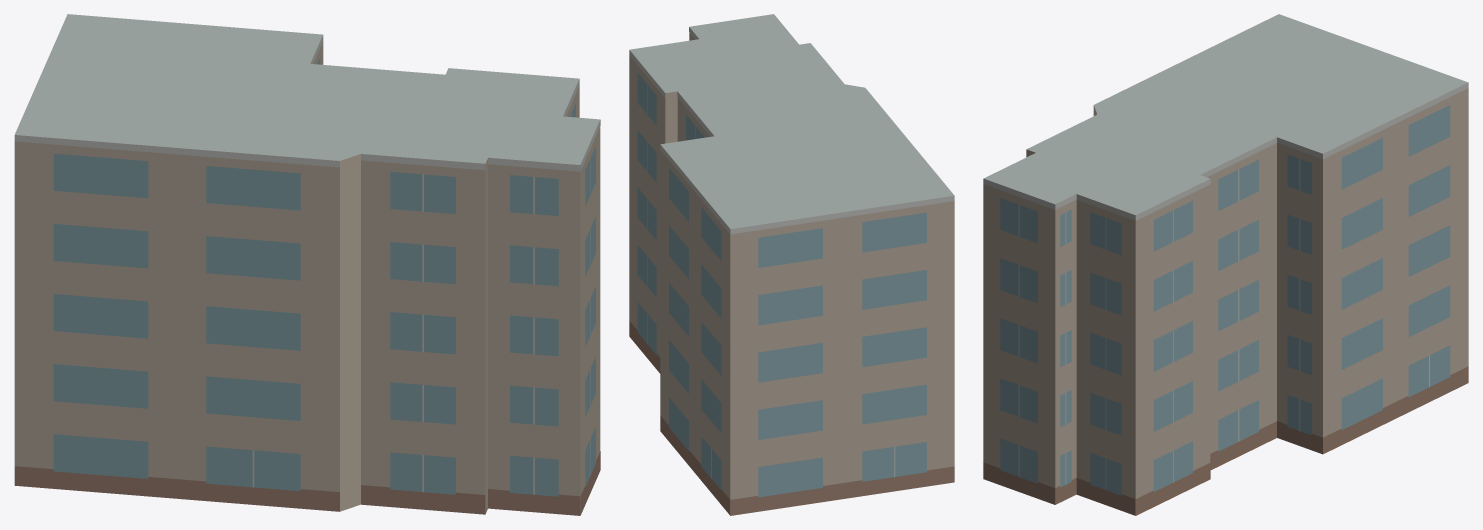
The model's file is survey-upis-32875977.glb.
3 renders of one model, left to right at view 1: azimuth 30°, elevation 25°; view 2: azimuth 150°, elevation 25°; view 3: azimuth 270°, elevation 25°, orthographic. The views are drawn at different scales.
Parts seen in each view (by area): view 1: survey-upis-32875977.tmp; view 2: survey-upis-32875977.tmp; view 3: survey-upis-32875977.tmp.
Part boxes in pixels (x1,y1,x2,y2): survey-upis-32875977.tmp: (14,14,600,515); survey-upis-32875977.tmp: (629,14,954,515); survey-upis-32875977.tmp: (983,14,1468,515).
Bounding box in the file's own units: 18.97 × 13.2 × 19.31.
